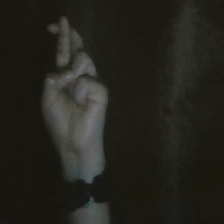R: (34, 8, 118, 159)
